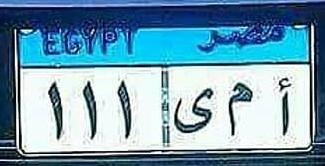1: (113, 77, 139, 140), (43, 78, 69, 140), (78, 78, 102, 144)
alif: (276, 74, 295, 138)
meem: (224, 79, 254, 140)
yaa: (173, 83, 216, 140)
